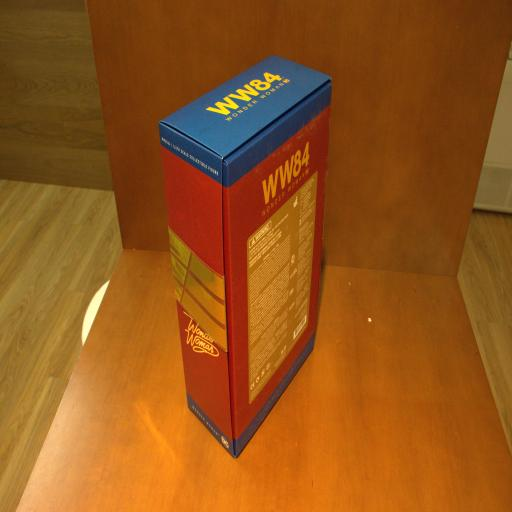WonderWoman: (158, 51, 332, 461)
